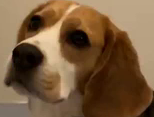Dog: (11, 6, 134, 108)
